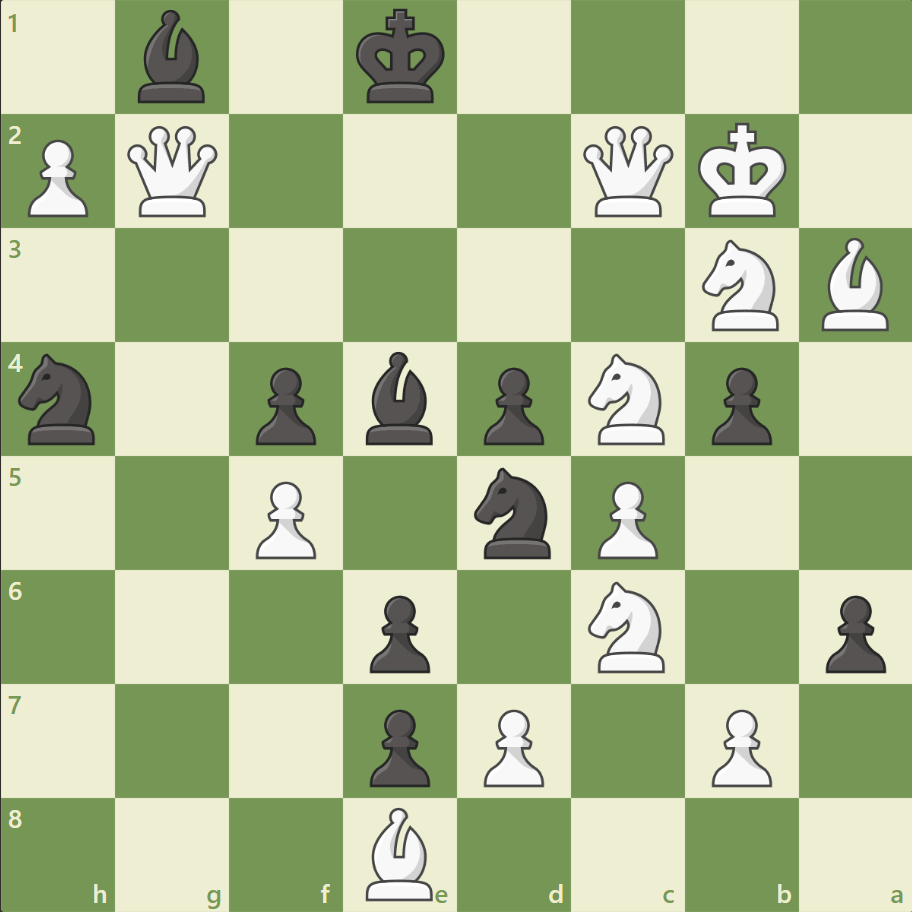B: (358, 801, 442, 904), (812, 233, 896, 336)
K: (692, 117, 792, 225)
N: (692, 234, 789, 337), (579, 575, 676, 677), (579, 348, 676, 450)
P: (701, 700, 776, 791), (474, 700, 549, 791), (247, 473, 322, 564), (20, 132, 95, 223), (588, 473, 662, 564)
Q: (578, 122, 677, 222), (124, 122, 223, 222)
b: (131, 6, 215, 109), (358, 347, 442, 449)
k: (351, 4, 451, 112)
n: (465, 461, 562, 564), (11, 348, 108, 450)
p: (701, 359, 776, 450), (474, 359, 549, 450), (247, 359, 322, 450), (361, 700, 435, 791), (815, 586, 889, 677), (361, 586, 435, 677)
